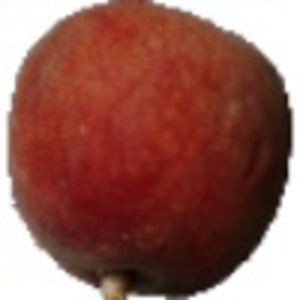pêssego: (5, 1, 294, 300)
